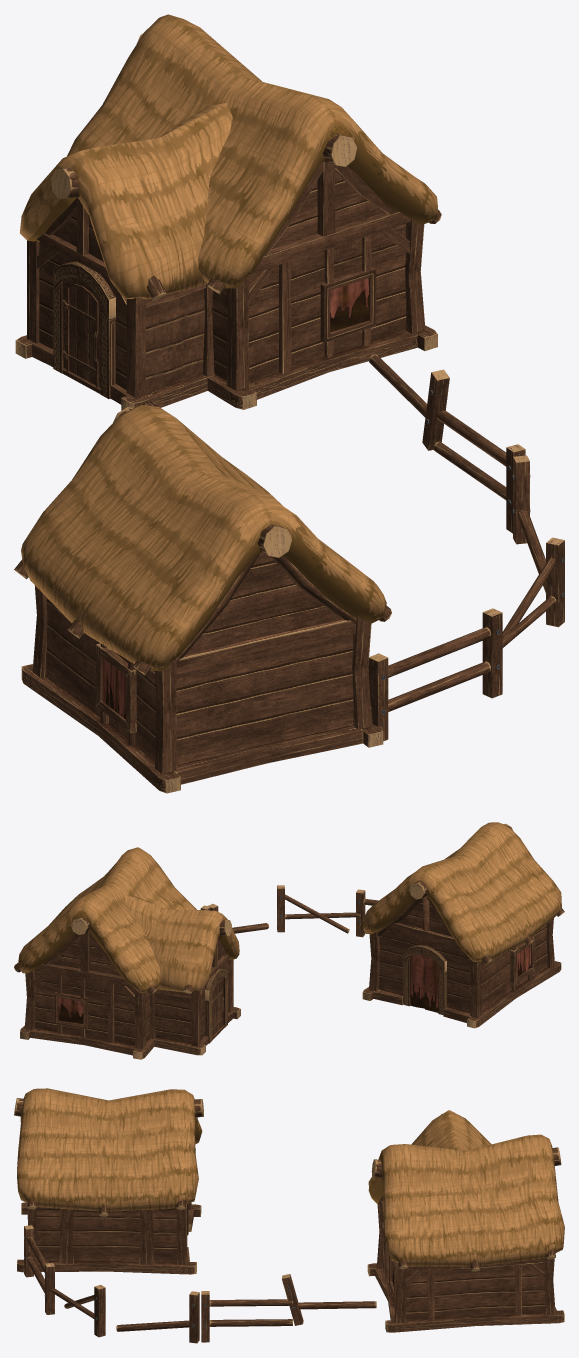
3 views of the same model, one above another, from view 1: azimuth 30°, elevation 25°; view 2: azimuth 150°, elevation 25°; view 3: azimuth 270°, elevation 25° (orthographic). The views are drawn at different scales.
Visible parts, largest first — view 1: House2, WoodCover.001, WoodenFence.005, WoodenFence5.002, WoodenFence2.002, WoodenFence4.001, WoodenFence4.002; view 2: House2, WoodCover.001, WoodenFence5.002, WoodenFence.005, WoodenFence4.002; view 3: House2, WoodCover.001, WoodenFence2.002, WoodenFence.005, WoodenFence4.002, WoodenFence4.001, WoodenFence5.002.
Boxes of the visible parts, left/top/right/bottom form: House2: left=15, top=14, right=441, bottom=410; WoodCover.001: left=14, top=405, right=391, bottom=793; WoodenFence.005: left=368, top=608, right=502, bottom=741; WoodenFence5.002: left=502, top=537, right=564, bottom=648; WoodenFence2.002: left=433, top=410, right=525, bottom=533; WoodenFence4.001: left=369, top=354, right=449, bottom=450; WoodenFence4.002: left=512, top=455, right=545, bottom=592; House2: left=14, top=847, right=240, bottom=1059; WoodCover.001: left=359, top=822, right=564, bottom=1028; WoodenFence5.002: left=277, top=885, right=360, bottom=933; WoodenFence.005: left=356, top=889, right=378, bottom=937; WoodenFence4.002: left=208, top=904, right=268, bottom=933; House2: left=367, top=1110, right=564, bottom=1332; WoodCover.001: left=14, top=1088, right=203, bottom=1274; WoodenFence2.002: left=201, top=1291, right=292, bottom=1342; WoodenFence.005: left=24, top=1225, right=54, bottom=1314; WoodenFence4.002: left=116, top=1291, right=199, bottom=1343; WoodenFence4.001: left=282, top=1274, right=376, bottom=1325; WoodenFence5.002: left=51, top=1285, right=105, bottom=1337.
Size of the model in its own units: 844 by 454 by 1103.
